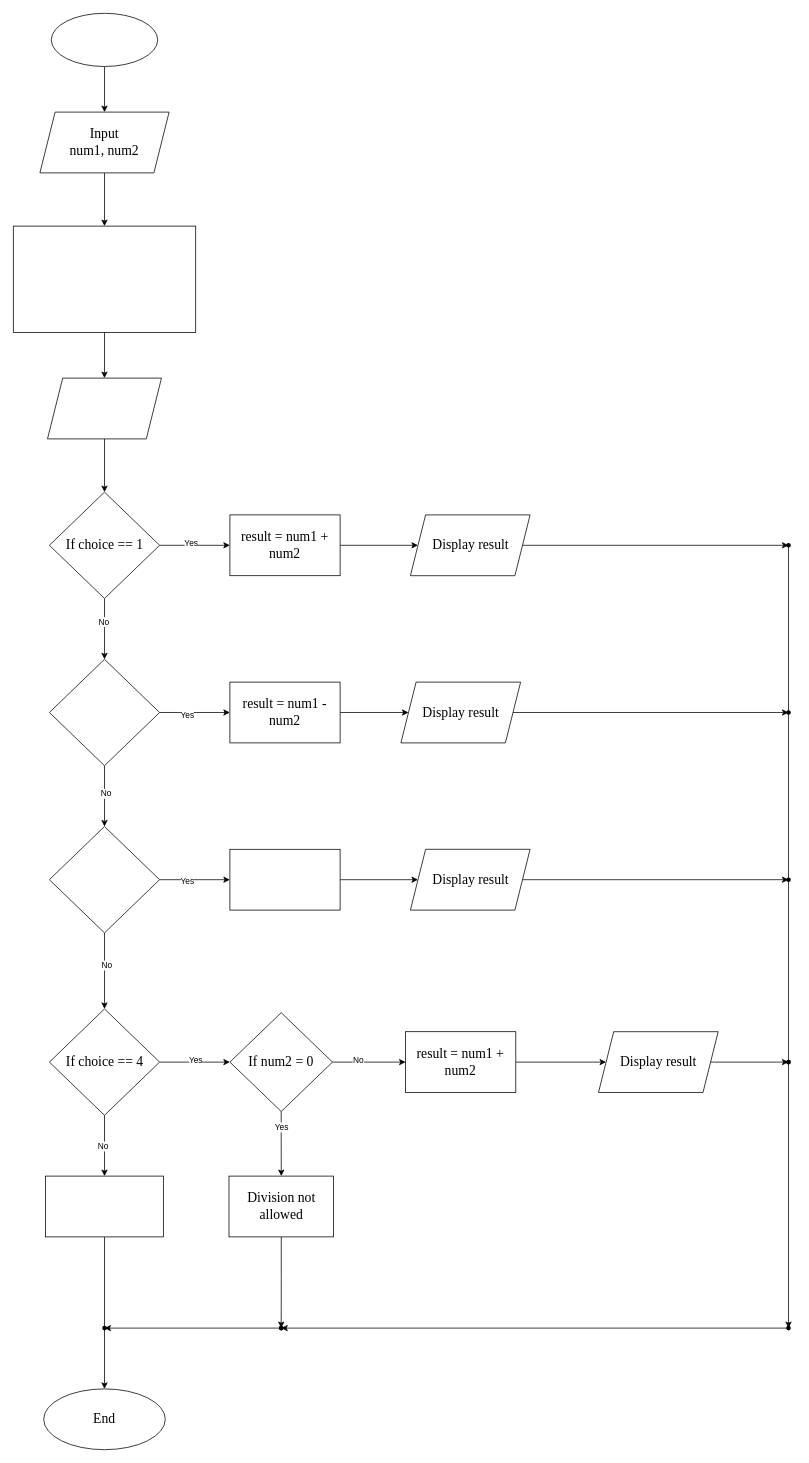
Image size: 809x1463. Some labels were removed from this diagram. The shapes that lost their labels are listed below. From the top down, each one's centre as x and y in pixels, then its label:
At point (104, 39): "Start".
At point (104, 278): "Select operation 1. Addition 2. Subtraction 3. Multiplication 4. Division".
At point (104, 408): "Input choice".
At point (104, 712): "If choice == 2".
At point (104, 879): "If choice == 3".
At point (284, 879): "result = num1 * num2".
At point (104, 1206): "Invalid Choice".
